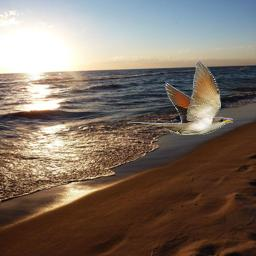Cuckoo: (127, 61, 233, 135)
